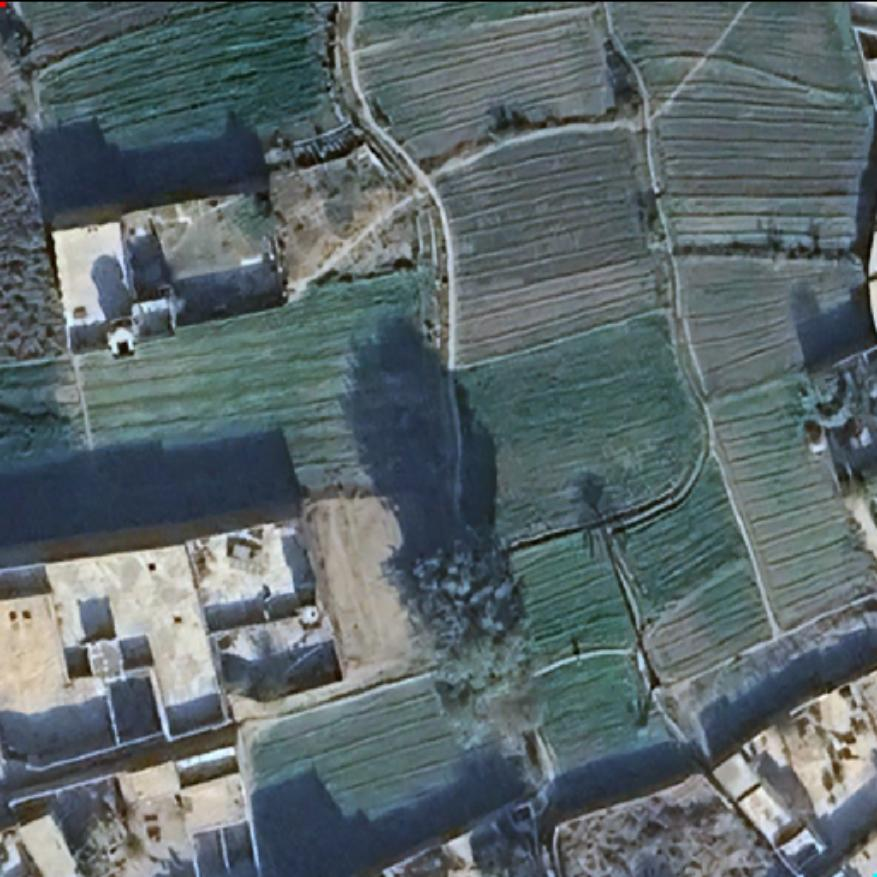Solarpanel: (226, 541, 267, 577)
